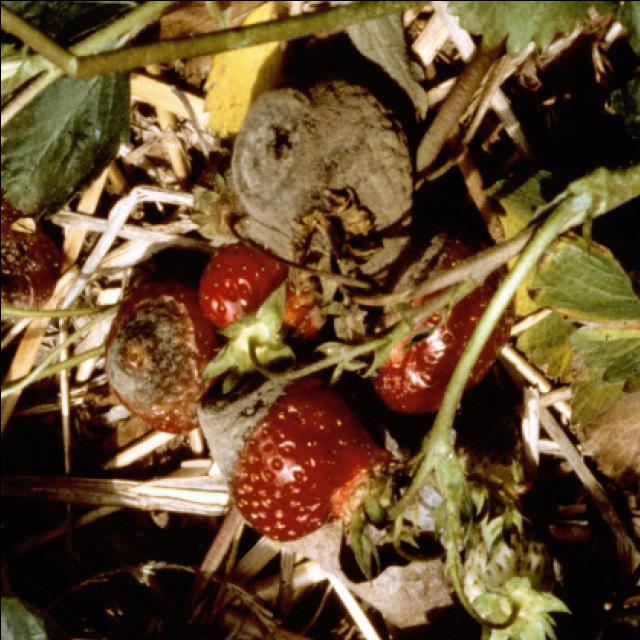Gray Mold: (228, 77, 414, 305), (200, 367, 406, 541), (107, 280, 224, 434)
